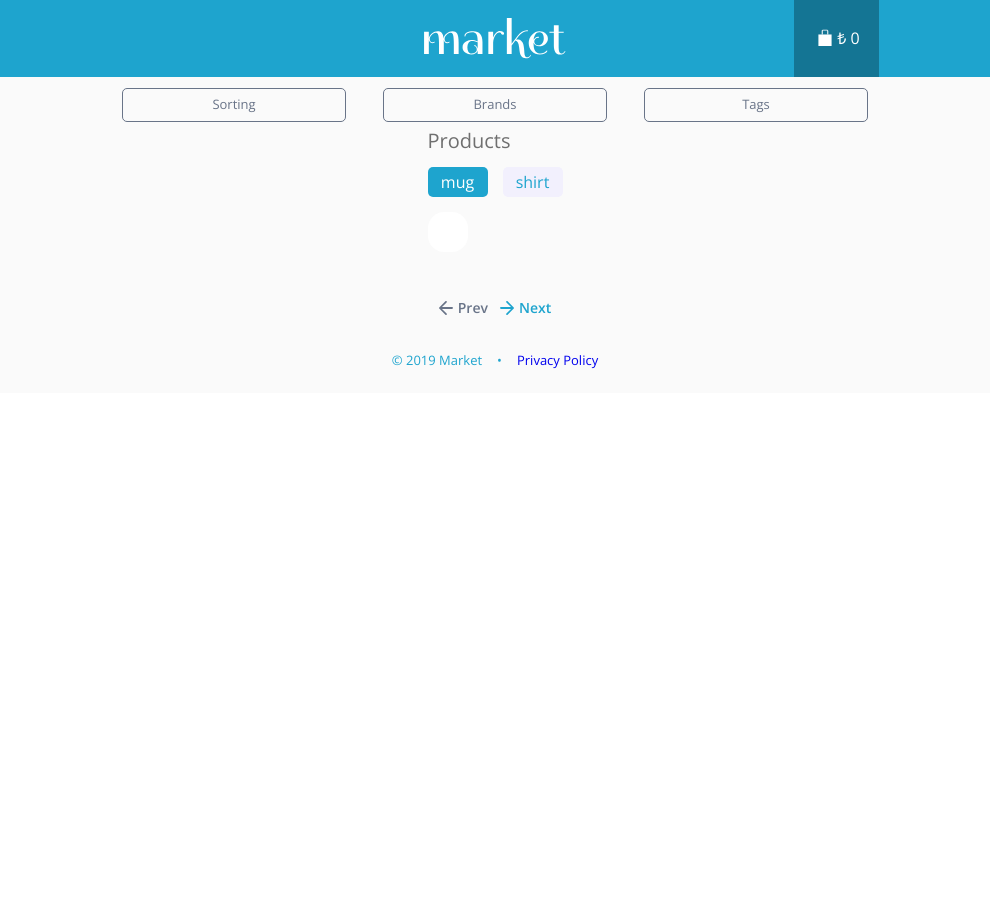
it: Filters › should render tags content on click on mobile
Click the text with test id "tags__label" at (756, 105), box [644,88,867,122]
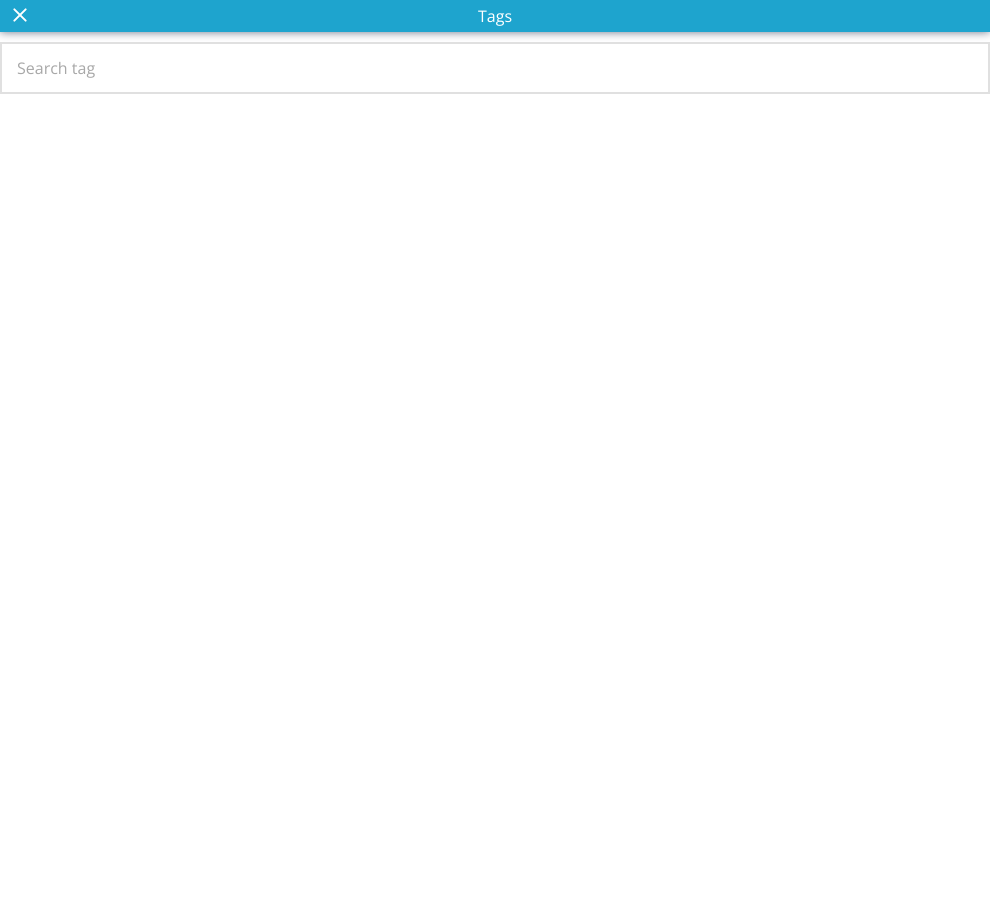
Result: the element with test id "tags__content" is shown
